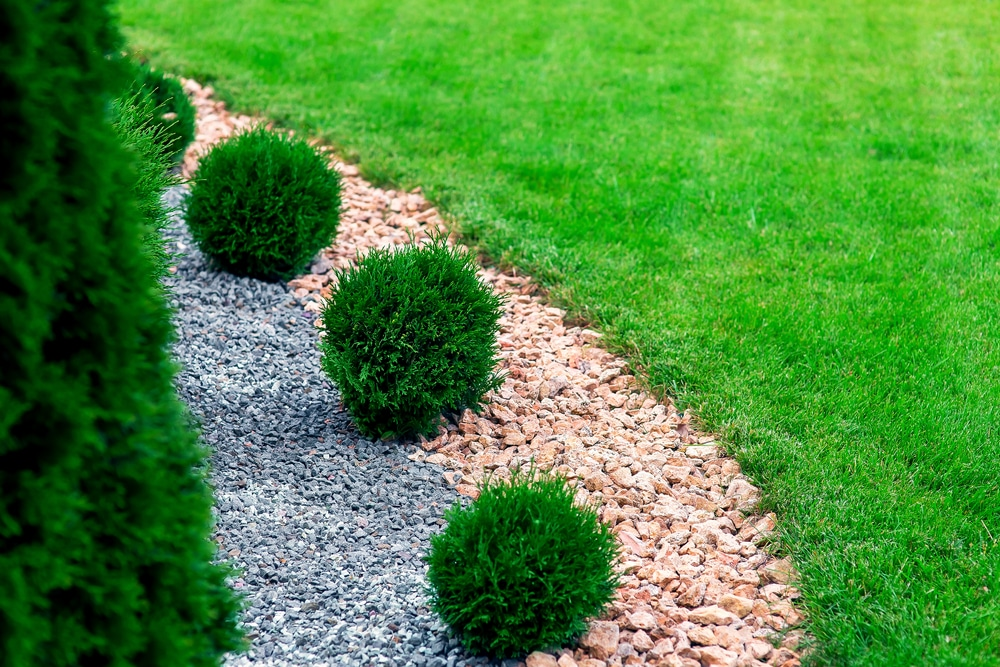grass: (765, 0, 994, 666), (500, 9, 764, 459), (128, 4, 495, 171)
rock: (214, 428, 449, 662), (569, 428, 798, 665), (458, 307, 668, 482), (161, 245, 338, 429), (338, 188, 433, 254)
